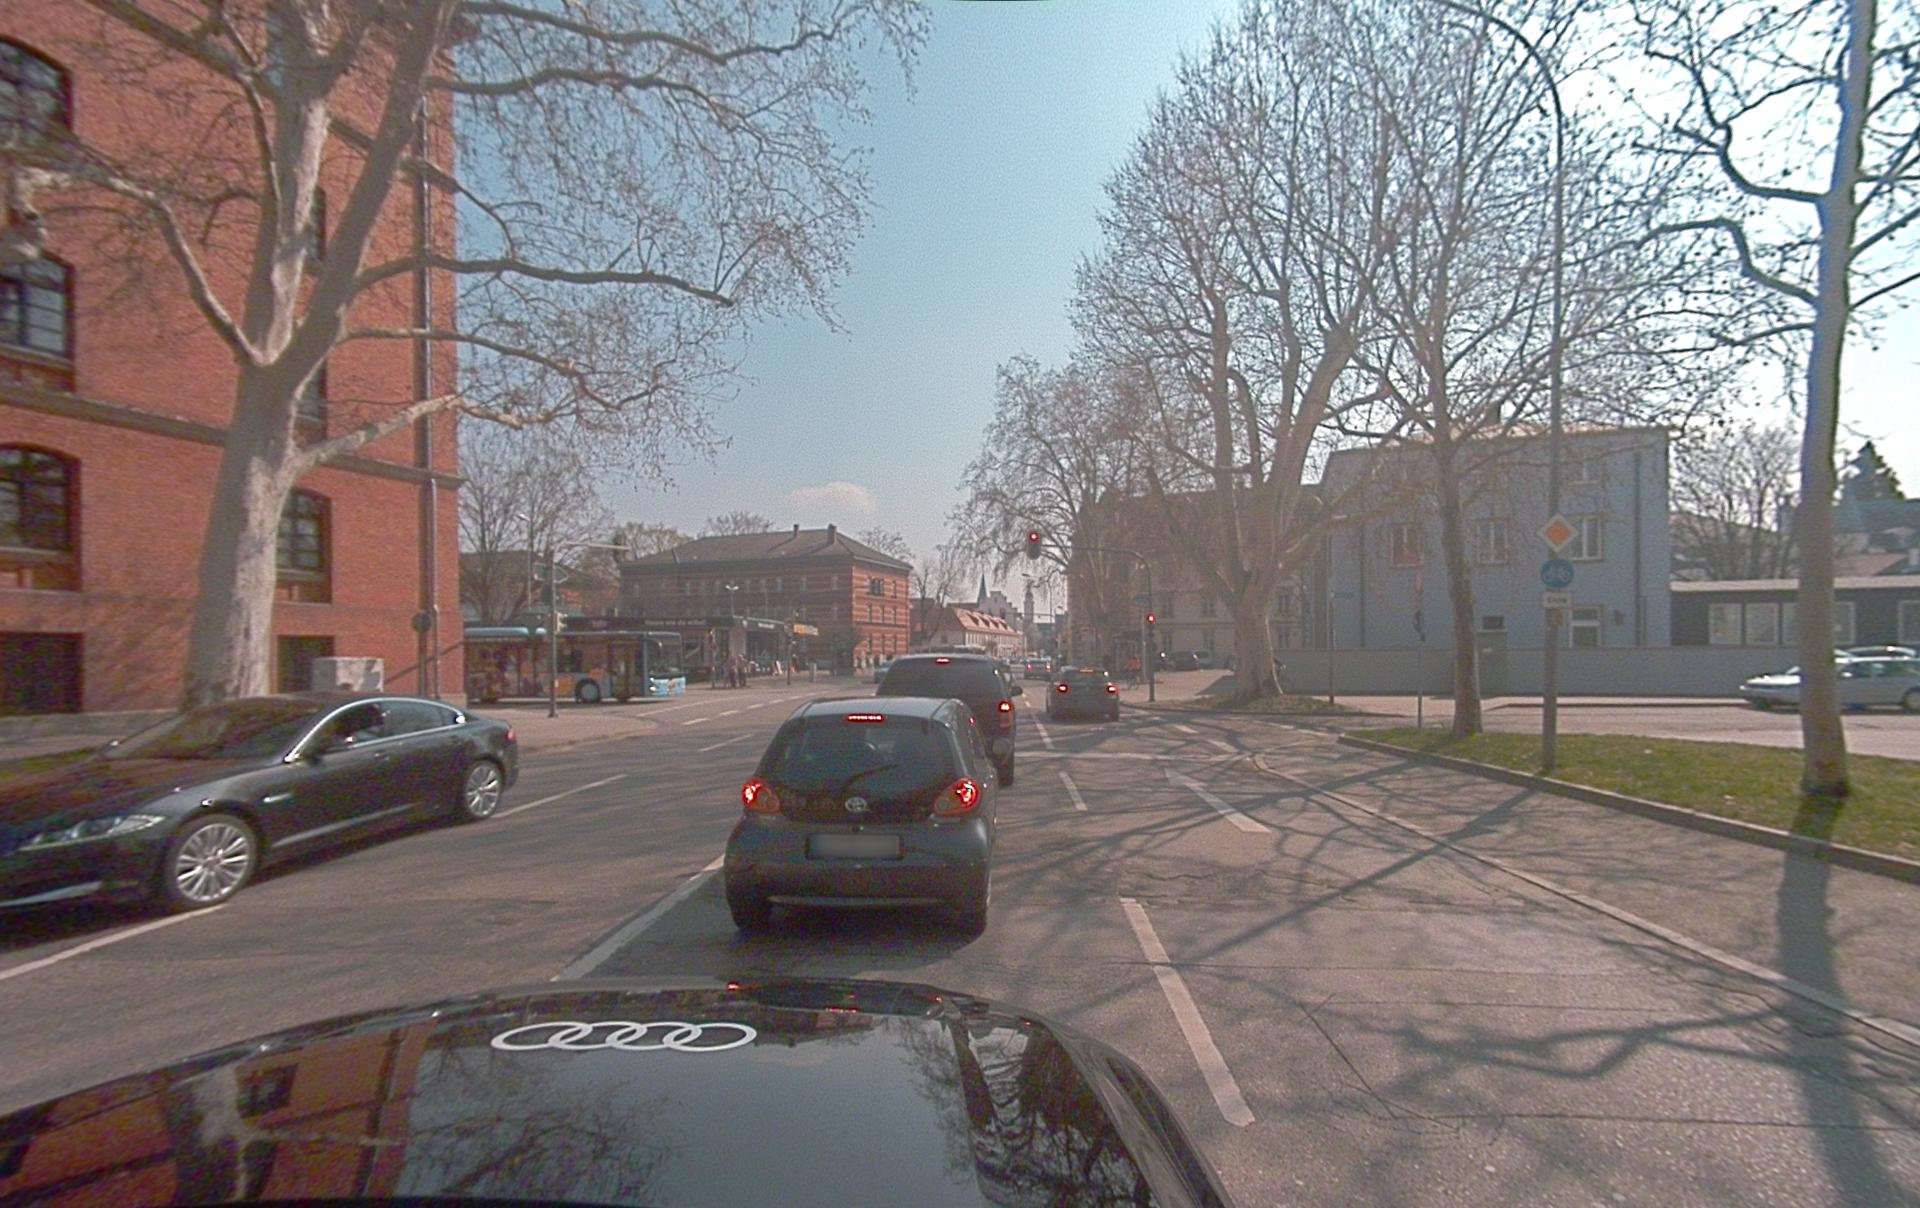car: (0, 976, 1238, 1207), (1, 691, 519, 919), (724, 696, 1000, 934), (876, 653, 1020, 788), (1739, 647, 1920, 714), (1046, 665, 1120, 721), (1023, 657, 1053, 679)
traffic sign: (1540, 557, 1575, 589)
